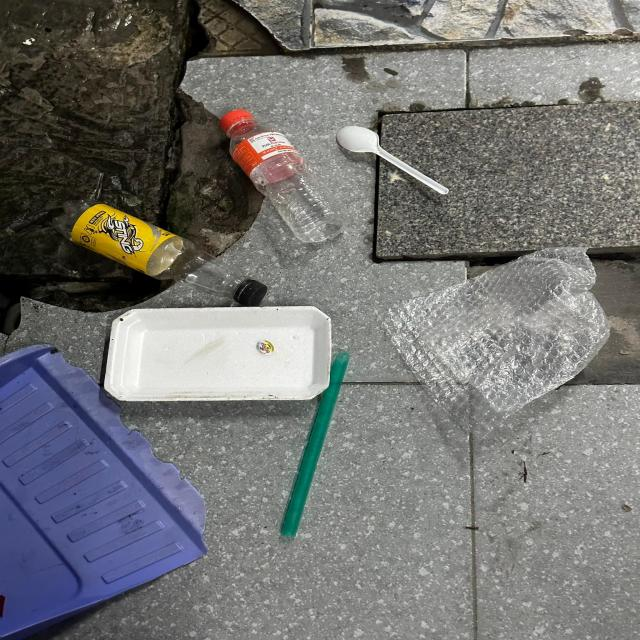bag: (383, 246, 612, 440)
bottle: (54, 200, 268, 305), (219, 109, 349, 242)
drinking straw: (281, 349, 350, 536)
foam box: (103, 305, 332, 402)
plastic utensil: (336, 125, 448, 194)
